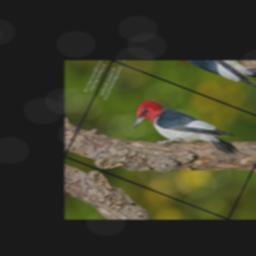Woodpecker: (127, 95, 254, 176)
